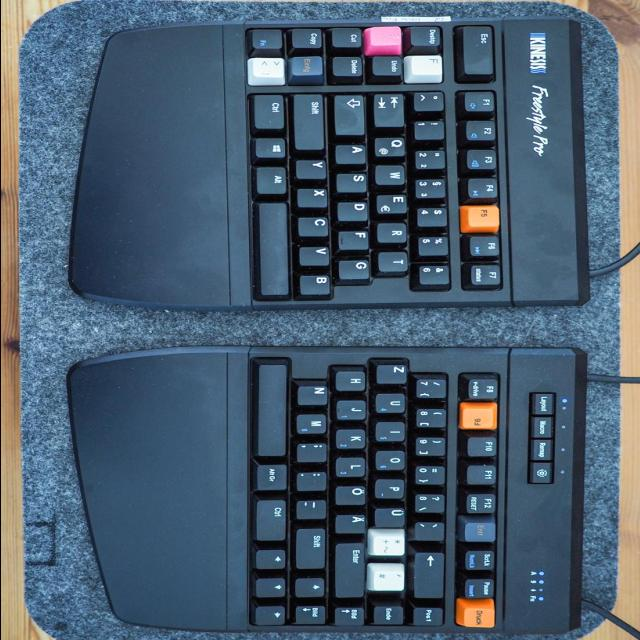0: (416, 463, 449, 484)
1: (414, 119, 447, 139)
2: (415, 147, 449, 169)
3: (416, 176, 449, 198)
4: (417, 204, 451, 226)
5: (416, 235, 450, 257)
6: (419, 263, 453, 285)
7: (416, 375, 450, 398)
8: (416, 405, 450, 427)
9: (415, 433, 449, 455)
a: (337, 142, 370, 163)
accent: (415, 520, 448, 542)
ae: (336, 512, 369, 532)
alt-left: (257, 164, 291, 194)
altgr-right: (258, 461, 291, 489)
b: (299, 274, 333, 296)
c: (299, 214, 332, 236)
caret: (415, 89, 447, 110)
comma: (297, 440, 331, 462)
d: (338, 199, 372, 220)
del: (416, 550, 448, 598)
e: (377, 192, 411, 213)
enter: (336, 540, 368, 597)
f: (339, 229, 372, 249)
g: (340, 257, 374, 279)
h: (334, 370, 367, 392)
hash: (370, 561, 408, 591)
i: (377, 420, 409, 441)
j: (336, 398, 369, 420)
k: (334, 428, 367, 449)
keyboard: (227, 25, 512, 300), (237, 356, 504, 627)
l: (337, 455, 370, 476)
m: (298, 413, 330, 435)
minus: (298, 497, 330, 518)
n: (299, 384, 331, 405)
o: (377, 448, 409, 469)
oe: (336, 483, 370, 504)
p: (377, 478, 409, 498)
plus: (372, 527, 409, 555)
point: (298, 470, 330, 490)
q: (375, 134, 409, 156)
r: (379, 221, 411, 243)
s: (337, 171, 370, 192)
shift-left: (295, 92, 329, 150)
shift-lock: (335, 92, 369, 134)
shift-right: (298, 526, 330, 568)
space: (259, 201, 293, 295), (258, 363, 290, 455)
ss: (415, 491, 449, 512)
strg-left: (254, 92, 288, 130)
strg-right: (258, 497, 290, 541)
t: (380, 250, 412, 272)
tab: (375, 92, 408, 126)
u: (377, 391, 410, 412)
ue: (375, 505, 409, 526)
v: (301, 245, 333, 266)
w: (377, 163, 410, 185)
x: (298, 186, 331, 207)
y: (297, 157, 330, 178)
z: (377, 362, 411, 383)
